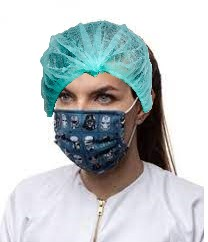with_mask_and_cap: (45, 23, 150, 176)
